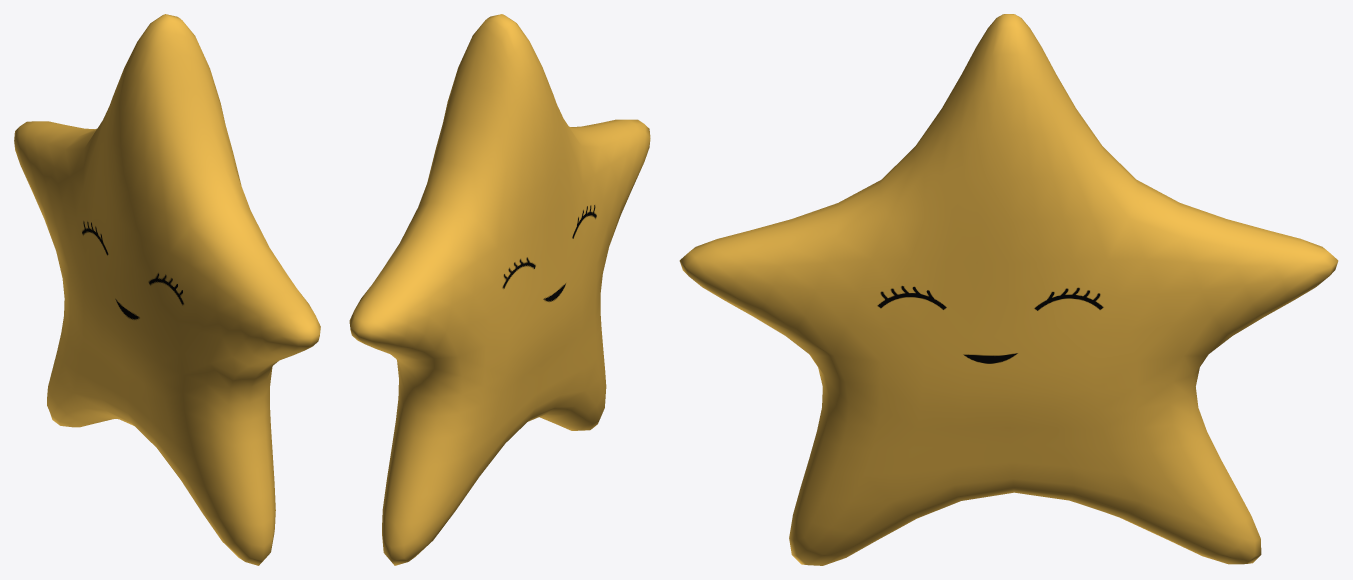
Rendered from Star 1.fbx.
The picture shows the model from 3 angles, left to right: view 1: azimuth 30°, elevation 25°; view 2: azimuth 150°, elevation 25°; view 3: azimuth 270°, elevation 25°; orthographic projection. The views are drawn at different scales.
Parts seen in each view (by area): view 1: Star; view 2: Star; view 3: Star.
Part boxes in pixels (left/top/right/bottom): Star: left=14, top=14, right=320, bottom=565; Star: left=349, top=14, right=650, bottom=565; Star: left=679, top=14, right=1338, bottom=565.
Bounding box in the file's own units: 41.21 × 195 × 212.
Materials: 1 (1 with a texture image).
